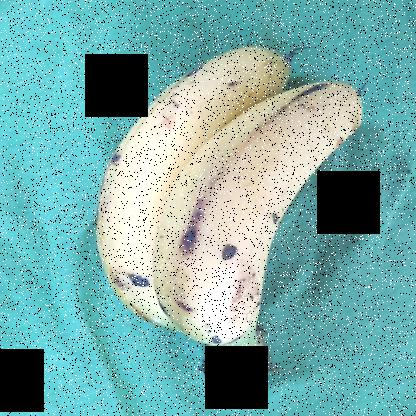ripe: (92, 42, 302, 328), (160, 74, 373, 352)
